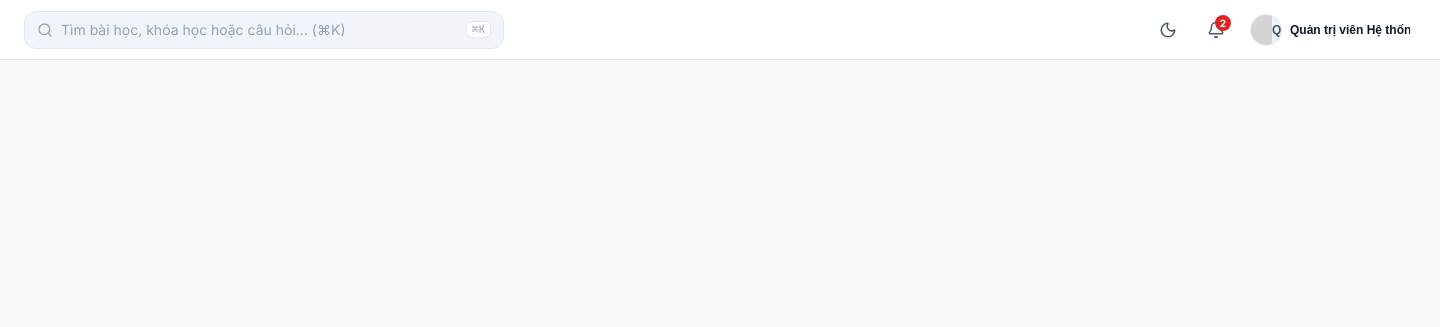
Test case: Topbar Header & Authentication Navigation (P20-000) › Authenticated Admin User › hides "Đăng nhập" / "Đăng ký" and shows single account dropdown with "Trang quản trị"
Expected: the link "Trang quản trị" is not shown
Click the button with aria-label "Menu tài khoản" at (1330, 30), box [1244,10,1416,50]
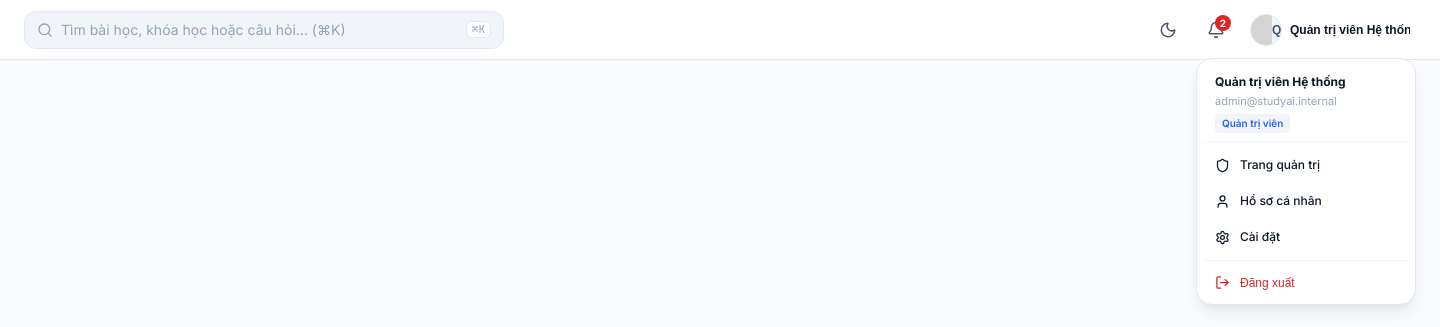
Result: the menu item "Trang quản trị" is shown at [1215,157,1320,172]
Result: the text "Quản trị viên" is shown at [1215,114,1290,133]
